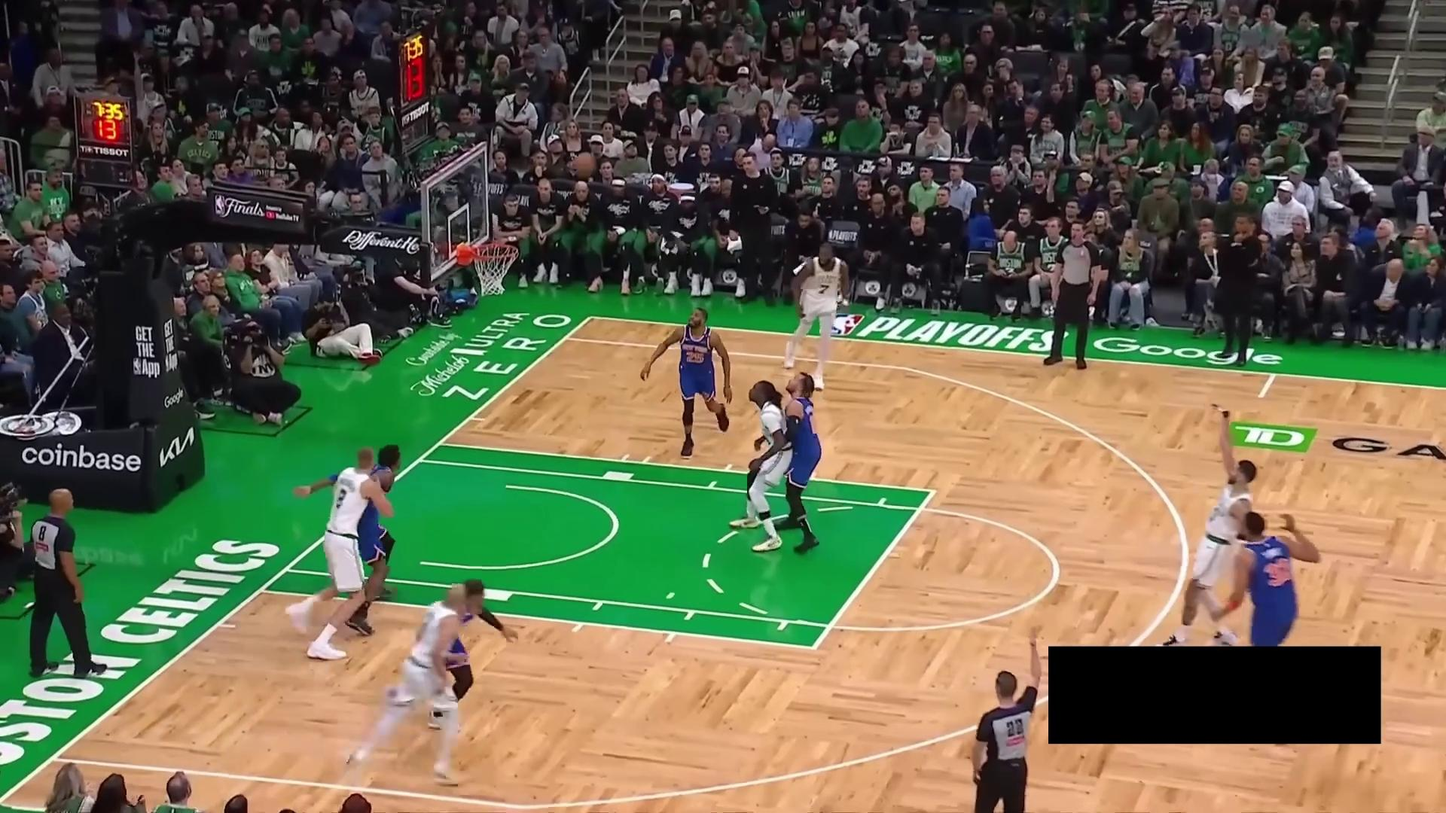ball: (573, 152, 596, 177)
number: (1264, 557, 1293, 587), (334, 488, 347, 510), (686, 351, 706, 364), (818, 282, 830, 296)
player: (338, 582, 468, 790), (1161, 404, 1258, 646), (285, 446, 394, 661), (293, 443, 402, 636), (389, 577, 520, 731), (1211, 510, 1321, 647), (639, 306, 733, 458), (728, 379, 793, 554), (782, 240, 850, 391), (776, 372, 823, 555)
referee: (26, 488, 108, 679), (970, 624, 1044, 813), (1042, 219, 1106, 371)
rim: (472, 242, 519, 260)
